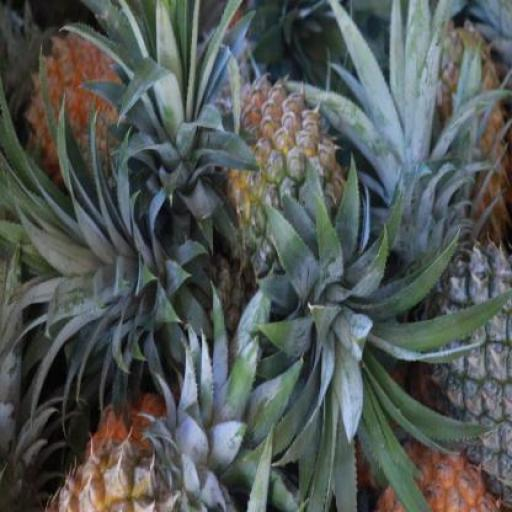------------------------------: (218, 73, 356, 283)
Pineapple - v8 v1: (44, 439, 201, 511)
